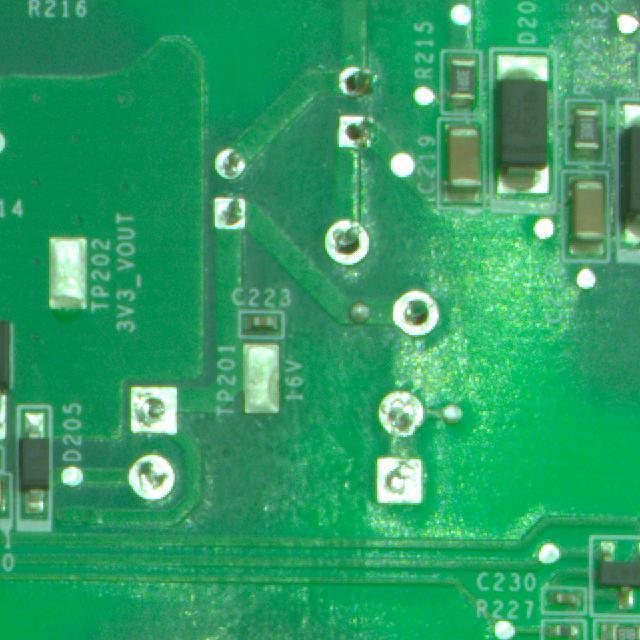Insufficient solder: (365, 455, 438, 519), (313, 209, 378, 276), (122, 380, 198, 434), (194, 185, 261, 236), (389, 284, 446, 342), (124, 451, 191, 500), (203, 143, 261, 198), (373, 385, 428, 440), (325, 61, 378, 107), (329, 112, 372, 160)
